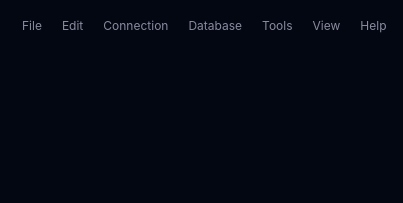
Scenario: MenuBar › closes dropdown when clicking the same menu again
Click the menu item "File" at (32, 26), box [12,14,52,38]
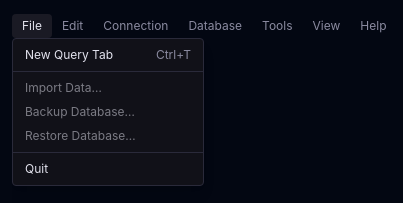
Check: the text "New Query Tab" is shown, box [25,47,113,63]
Click the menu item "File" at (32, 26), box [12,14,52,38]
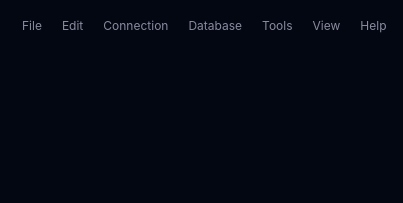
Check: the menu item "New Query Tab" is gone
